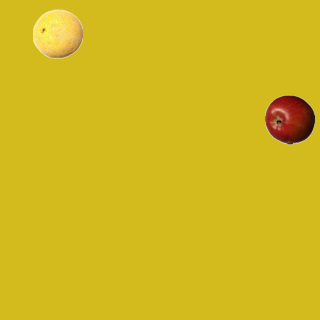Apple Braeburn: (264, 94, 314, 144)
Cantaloupe 1: (32, 8, 82, 58)
